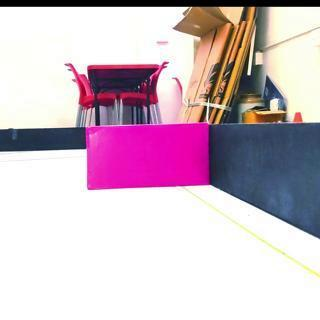xparking: (86, 125, 212, 188)
